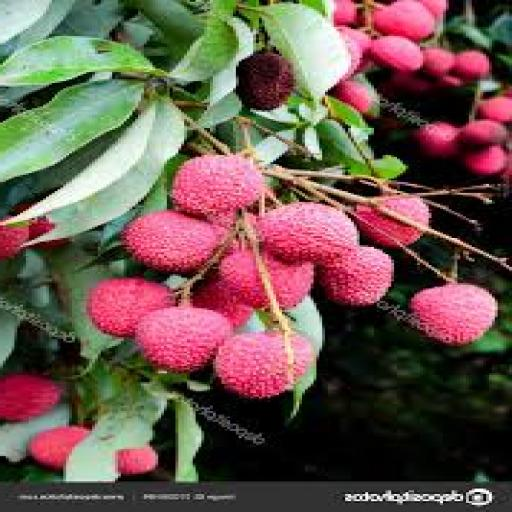lychee: (215, 332, 312, 398), (135, 307, 231, 373), (258, 202, 358, 263), (123, 211, 220, 272), (172, 156, 263, 214), (411, 284, 496, 346), (86, 278, 174, 337), (319, 246, 393, 306), (235, 53, 292, 109), (192, 278, 252, 328), (261, 253, 312, 310), (0, 374, 59, 421), (353, 206, 421, 246), (28, 426, 88, 470), (373, 0, 436, 41), (368, 37, 421, 72), (414, 121, 459, 158), (330, 80, 372, 113), (336, 28, 361, 81), (457, 119, 505, 146), (115, 446, 157, 475), (451, 51, 490, 81), (463, 147, 505, 174), (422, 47, 453, 77), (0, 226, 27, 259), (477, 96, 511, 122), (417, 0, 447, 19), (333, 0, 355, 25), (31, 238, 68, 248)
